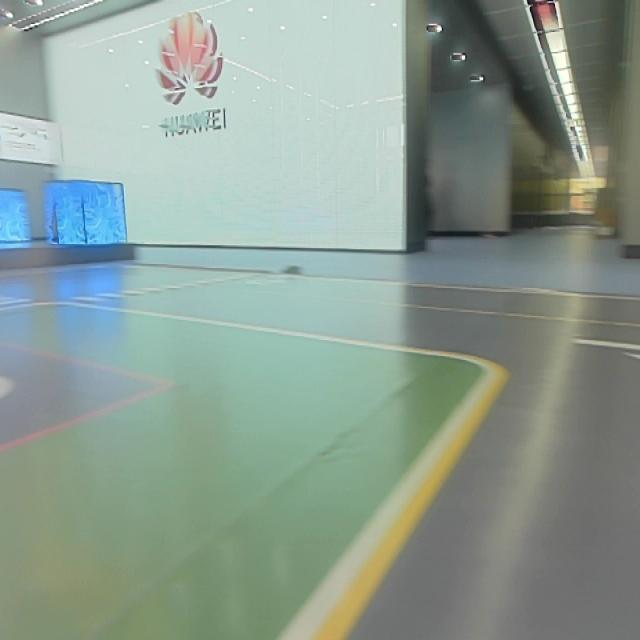right_lane: (309, 377, 509, 640)
